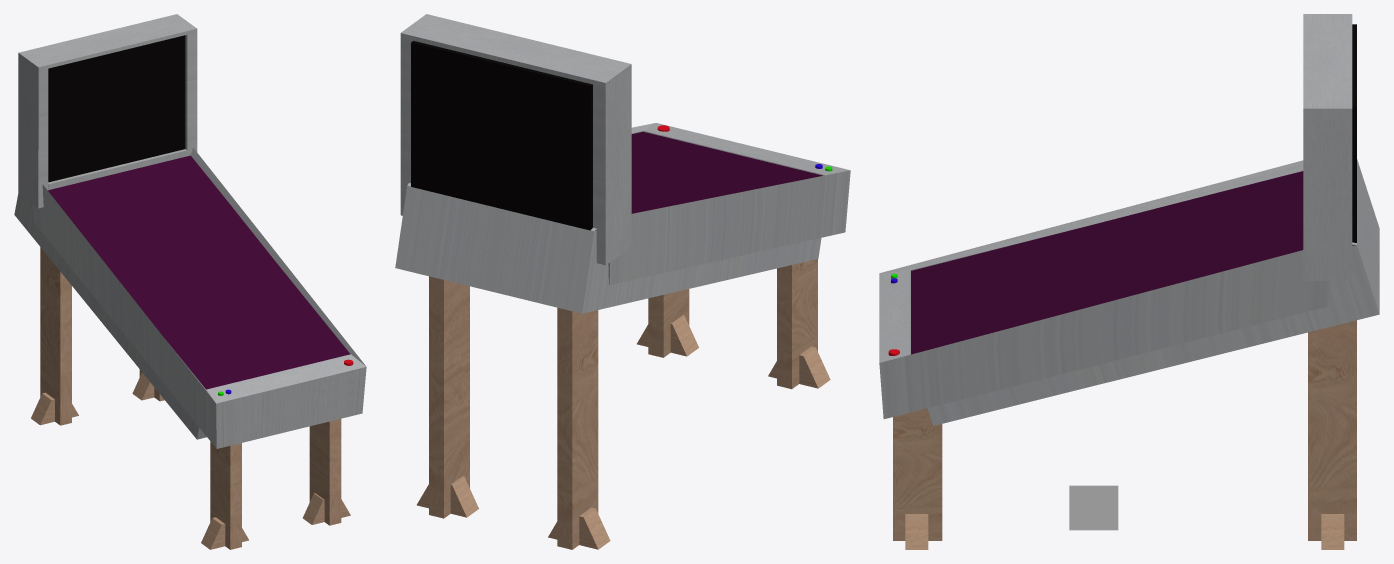
File: pinball-transformed.glb
3 renders of one model, left to right at view 1: azimuth 30°, elevation 25°; view 2: azimuth 150°, elevation 25°; view 3: azimuth 270°, elevation 25°, orthographic. The views are drawn at different scales.
Parts seen in each view (by area): view 1: Cube.003, Cube.001, Cube; view 2: Cube.001, Cube.003, Cube; view 3: Cube.001, Cube.003, Cube, Plane.
Boxes of the visible parts, bbox=[...] form: Cube.003: bbox=[48, 35, 353, 395]; Cube.001: bbox=[14, 14, 366, 448]; Cube: bbox=[31, 247, 350, 549]; Cube.001: bbox=[395, 14, 850, 313]; Cube.003: bbox=[411, 41, 832, 230]; Cube: bbox=[417, 259, 830, 549]; Cube.001: bbox=[879, 14, 1379, 425]; Cube.003: bbox=[888, 24, 1356, 355]; Cube: bbox=[893, 320, 1356, 549]; Plane: bbox=[1069, 485, 1118, 530].
Bounding box in the file's own units: 9.14 × 21.11 × 20.42.
Materials: 3 (3 with a texture image).
